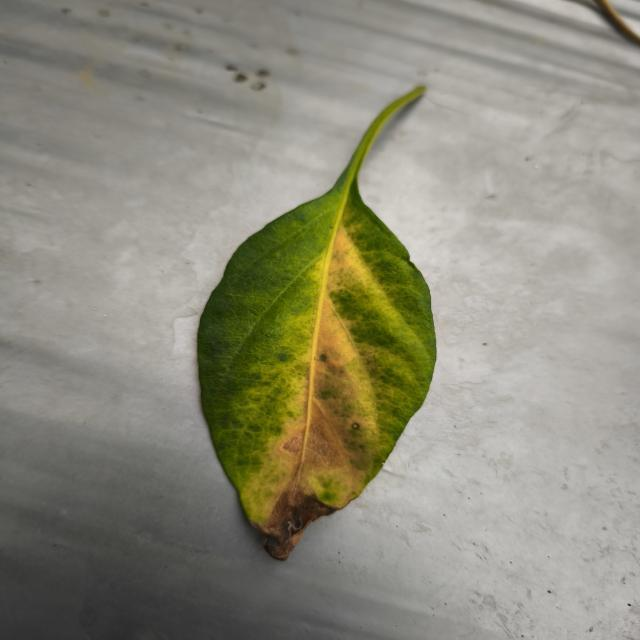Virus Kuning: (195, 176, 438, 560)
